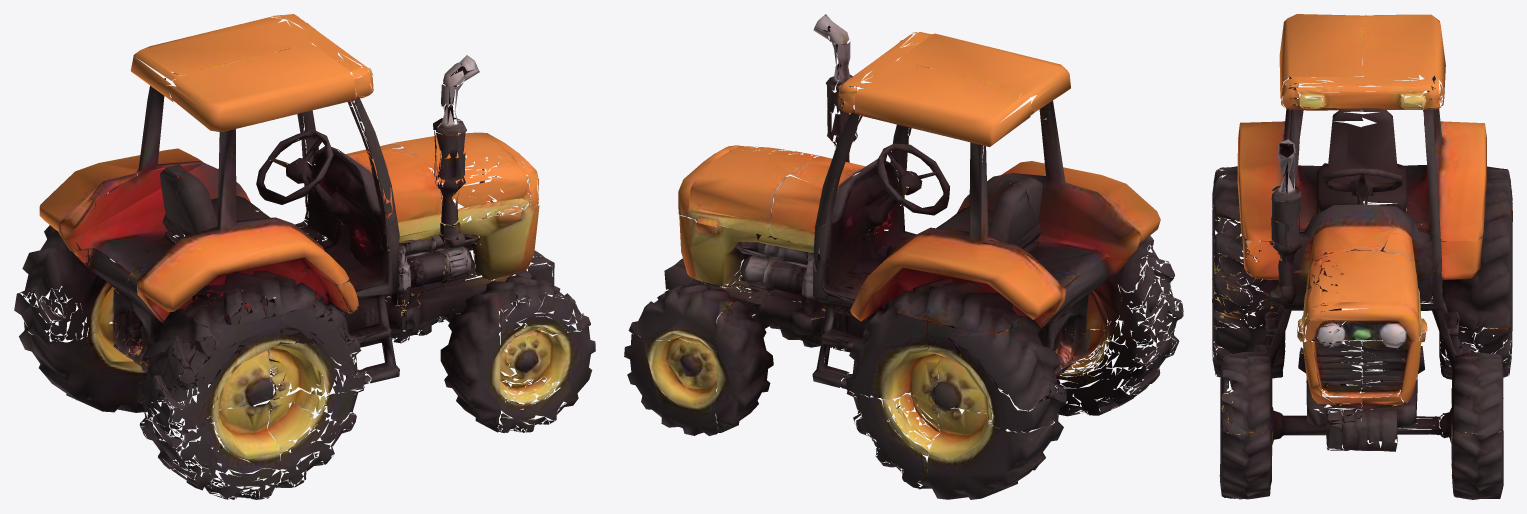
Rendered from traktor_1.glb.
3 views of the same model, side by side, from view 1: azimuth 30°, elevation 25°; view 2: azimuth 150°, elevation 25°; view 3: azimuth 270°, elevation 25° (orthographic). The views are drawn at different scales.
Visible parts, largest first — view 1: Object_6; view 2: Object_6; view 3: Object_6.
Boxes of the visible parts, x1,y1,x2,y2 form: Object_6: [14, 14, 595, 499]; Object_6: [624, 14, 1183, 499]; Object_6: [1212, 14, 1512, 499].
Bounding box in the file's own units: 5.01 × 3.97 × 3.09.
1 material, 1 textured.
